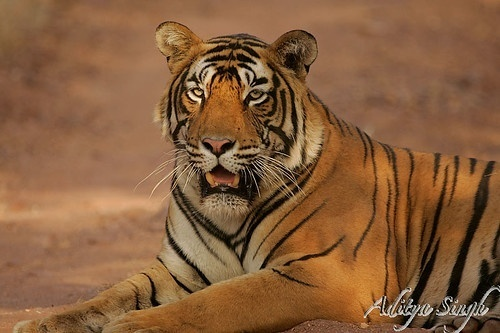tigre: (29, 16, 500, 332)
